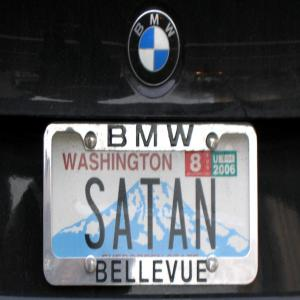Vehicle-registration-plate: (41, 121, 259, 288)
